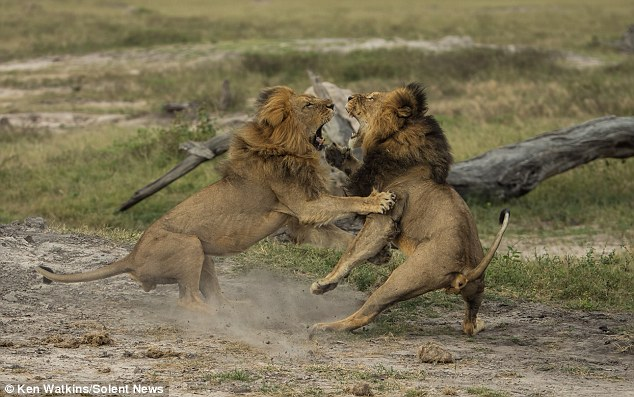lion: (98, 83, 346, 328), (314, 87, 509, 345)
